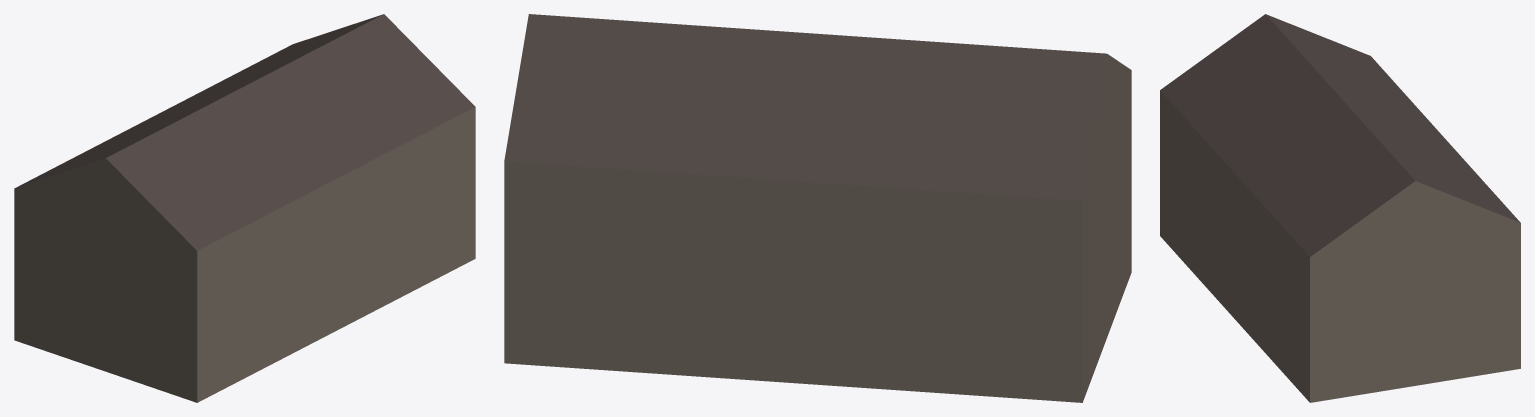
3 renders of one model, left to right at view 1: azimuth 30°, elevation 25°; view 2: azimuth 150°, elevation 25°; view 3: azimuth 270°, elevation 25°, orthographic. The views are drawn at different scales.
Visible parts, largest first — view 1: HP-w859078927; view 2: HP-w859078927; view 3: HP-w859078927.
Boxes of the visible parts, x1,y1,x2,y2 form: HP-w859078927: (14,14,475,402); HP-w859078927: (504,14,1131,402); HP-w859078927: (1160,14,1520,402).
Bounding box in the file's own units: 26.63 × 12.65 × 20.19.
